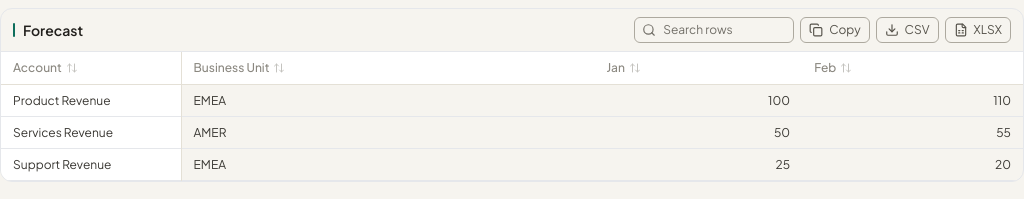
DataTable › search › announces how many rows survived the filter
The width and height of the screenshot is (1024, 199).
Type "EMEA" into the search field.
click(714, 30); type("EMEA")  # box [634,17,794,43]
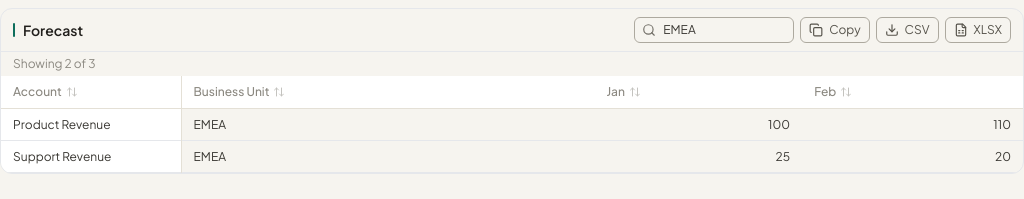
Expected: the text "Showing 2 of 3" is shown, [13,56,96,71]
